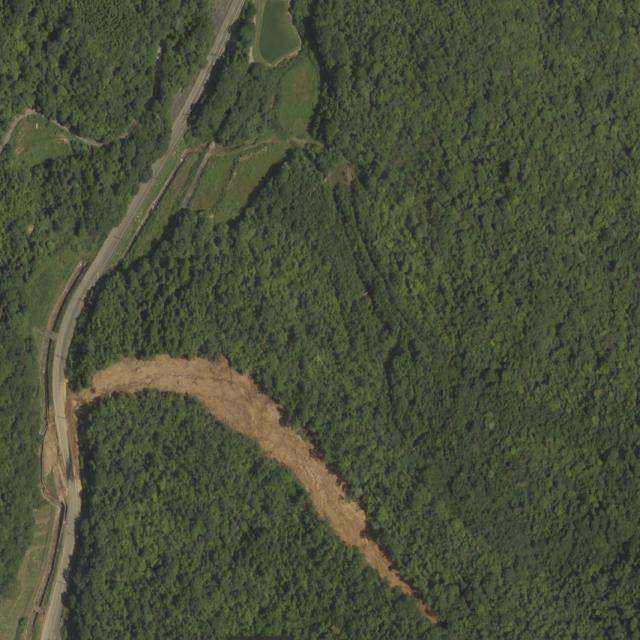landslide: (70, 355, 415, 595)
